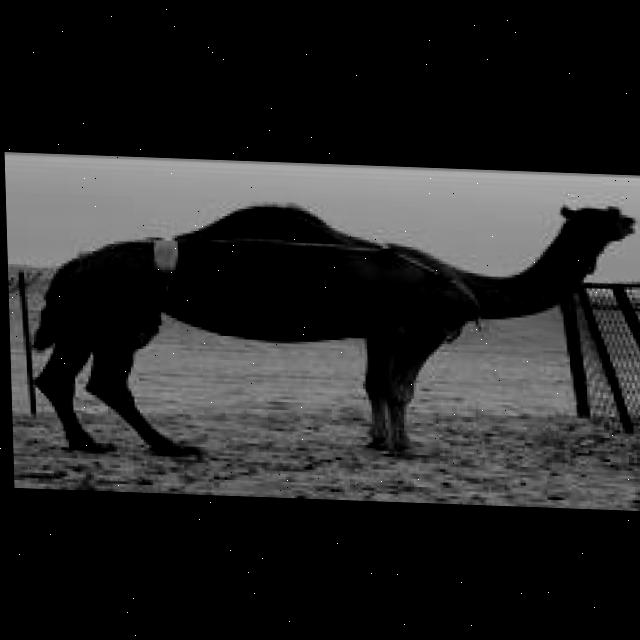Camel: (24, 182, 640, 474)
